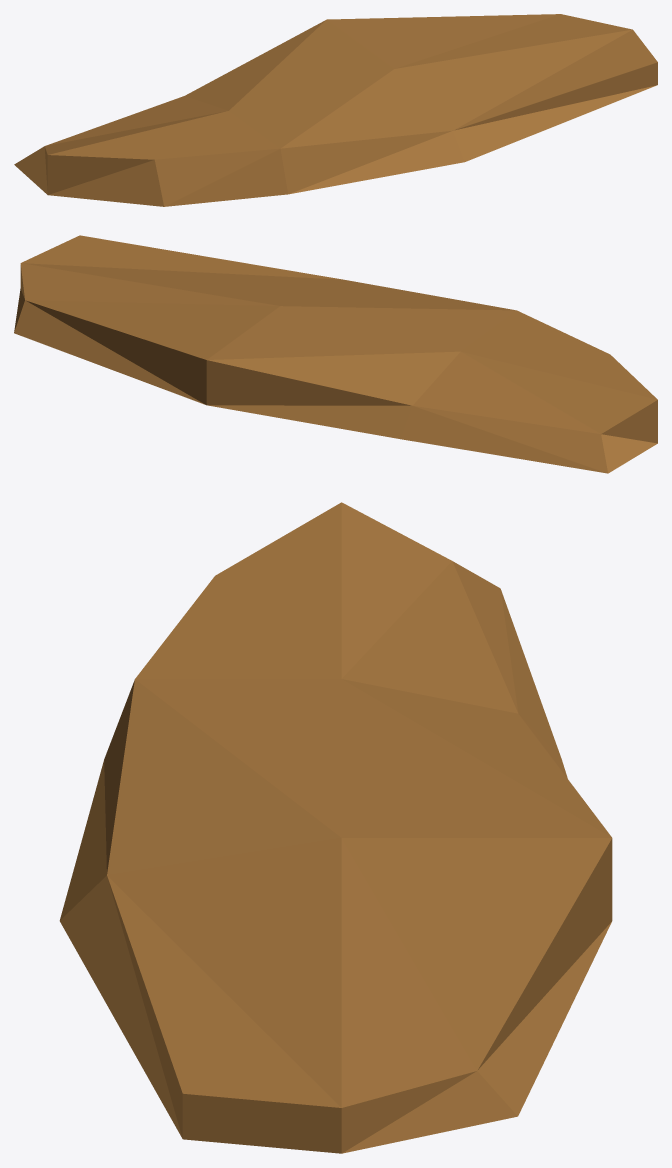
The model's file is Stone_1.fbx.
3 views of the same model, one above another, from view 1: azimuth 30°, elevation 25°; view 2: azimuth 150°, elevation 25°; view 3: azimuth 270°, elevation 25° (orthographic). The views are drawn at different scales.
Parts seen in each view (by area): view 1: Stone_1; view 2: Stone_1; view 3: Stone_1.
Boxes of the visible parts, x1,y1,x2,y2 form: Stone_1: [14, 14, 657, 206]; Stone_1: [14, 235, 657, 473]; Stone_1: [59, 502, 612, 1153].
Bounding box in the file's own units: 105 × 42.77 × 7.1.
